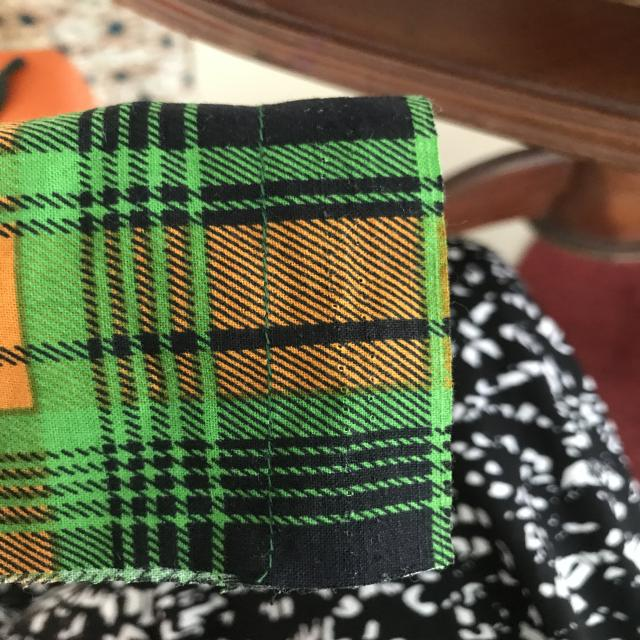good: (242, 224, 289, 339)
